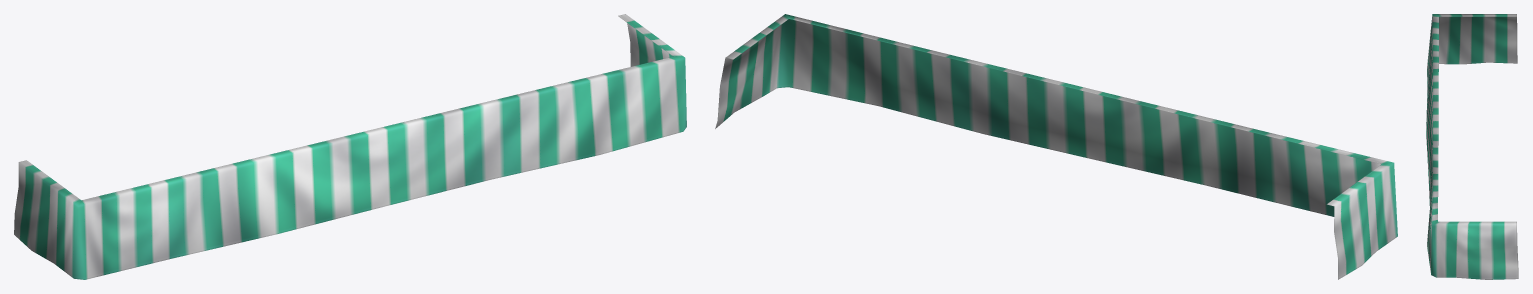
Rendered from jsf_BlindfoldCloth_4P_s03_01.fbx.
3 views of the same model, side by side, from view 1: azimuth 30°, elevation 25°; view 2: azimuth 150°, elevation 25°; view 3: azimuth 270°, elevation 25° (orthographic). The views are drawn at different scales.
Visible parts, largest first — view 1: jsf_BlindfoldCloth_4P_s03_01; view 2: jsf_BlindfoldCloth_4P_s03_01; view 3: jsf_BlindfoldCloth_4P_s03_01.
Boxes of the visible parts, box(x1,y1,x2,y2) form: jsf_BlindfoldCloth_4P_s03_01: box(14, 14, 686, 279); jsf_BlindfoldCloth_4P_s03_01: box(715, 14, 1397, 279); jsf_BlindfoldCloth_4P_s03_01: box(1426, 14, 1518, 279).
Bounding box in the file's own units: 270 × 30.11 × 48.69.
